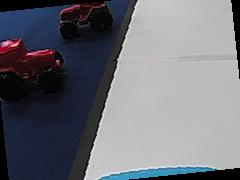Tracktor: (0, 33, 67, 95), (55, 0, 114, 38)
